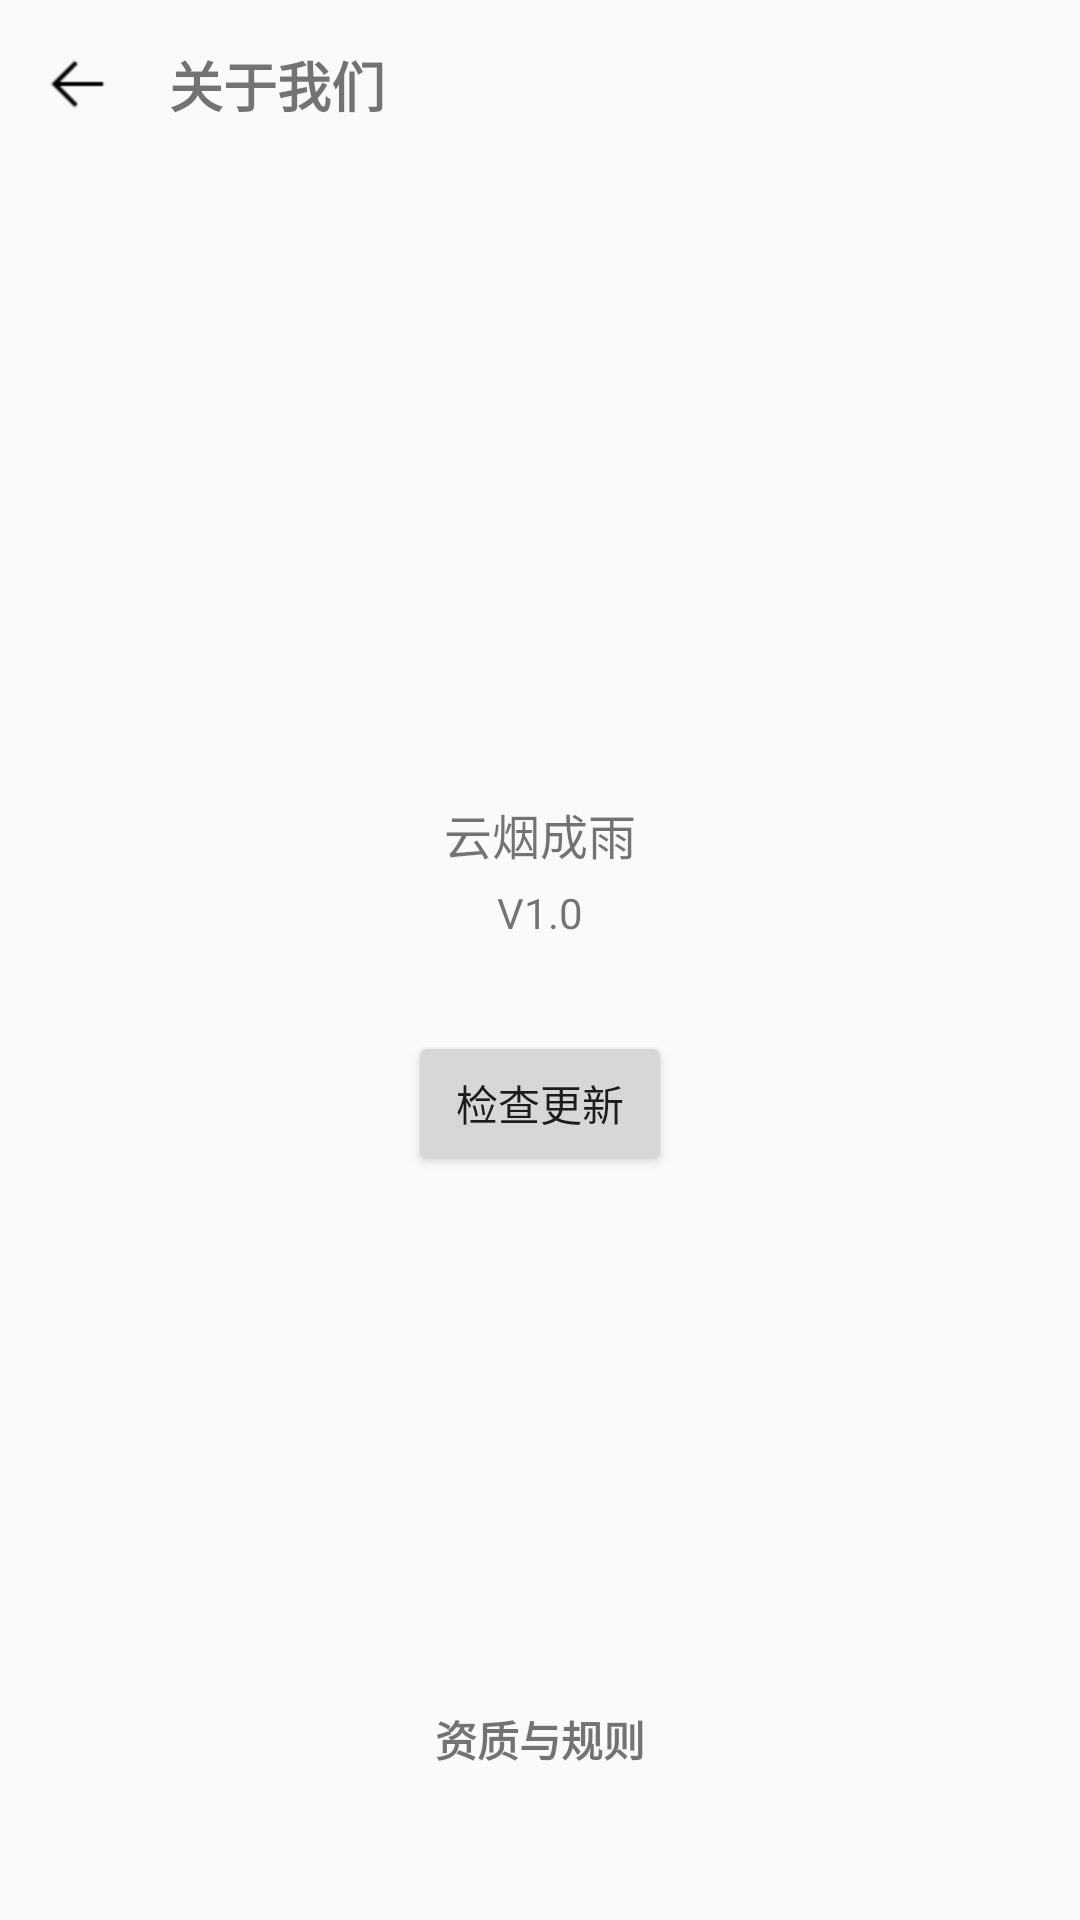

Named icons in this screenshot (1080x1920) and their bounding boxes, (x1, y1, x2, y2):
back: (51, 60, 104, 108)
